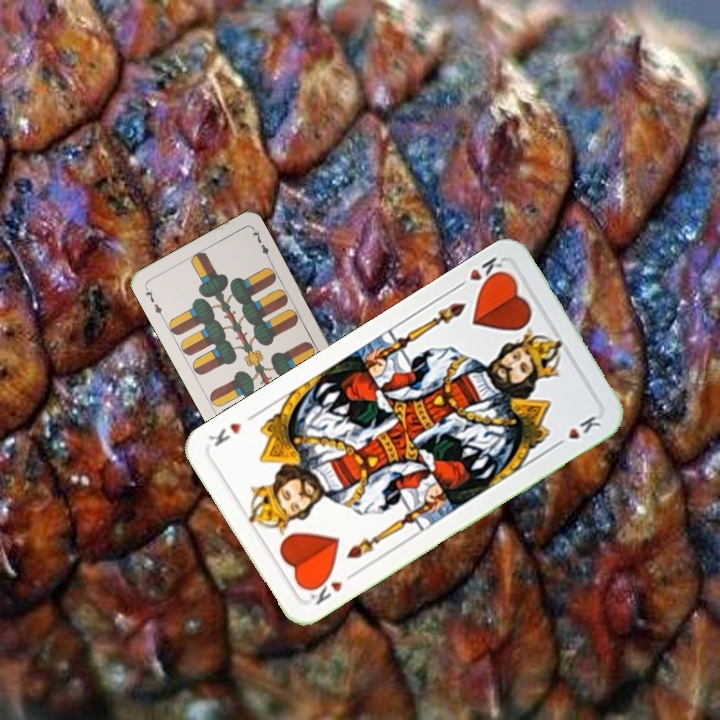E7: (141, 283, 166, 320)
HK: (451, 252, 509, 292), (304, 567, 358, 608)
